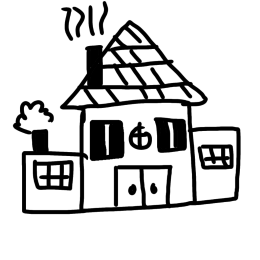closed_window: (86, 115, 129, 165), (30, 156, 79, 193), (197, 133, 236, 176), (154, 113, 189, 160)
door: (106, 162, 178, 212)
roof: (49, 20, 211, 114)
smoking_chimney: (54, 1, 120, 98), (8, 96, 63, 159)
wall: (68, 96, 202, 223)
